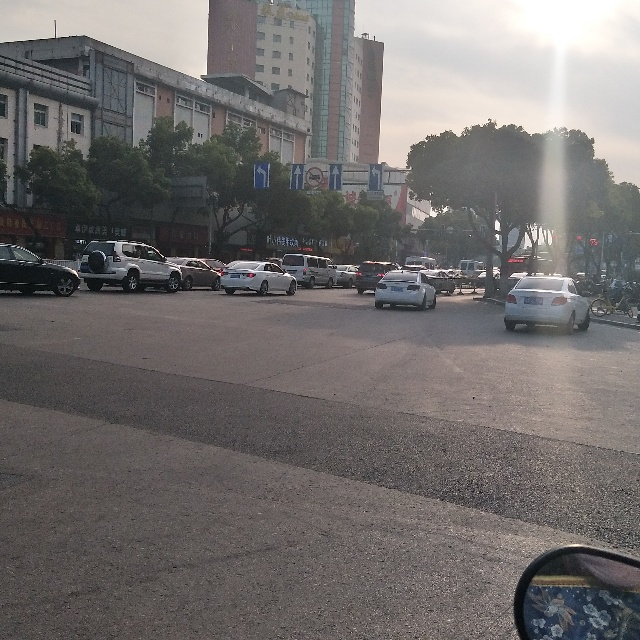left: (253, 163, 270, 188), (368, 164, 383, 190)
straight: (289, 164, 304, 189), (328, 164, 342, 190)
